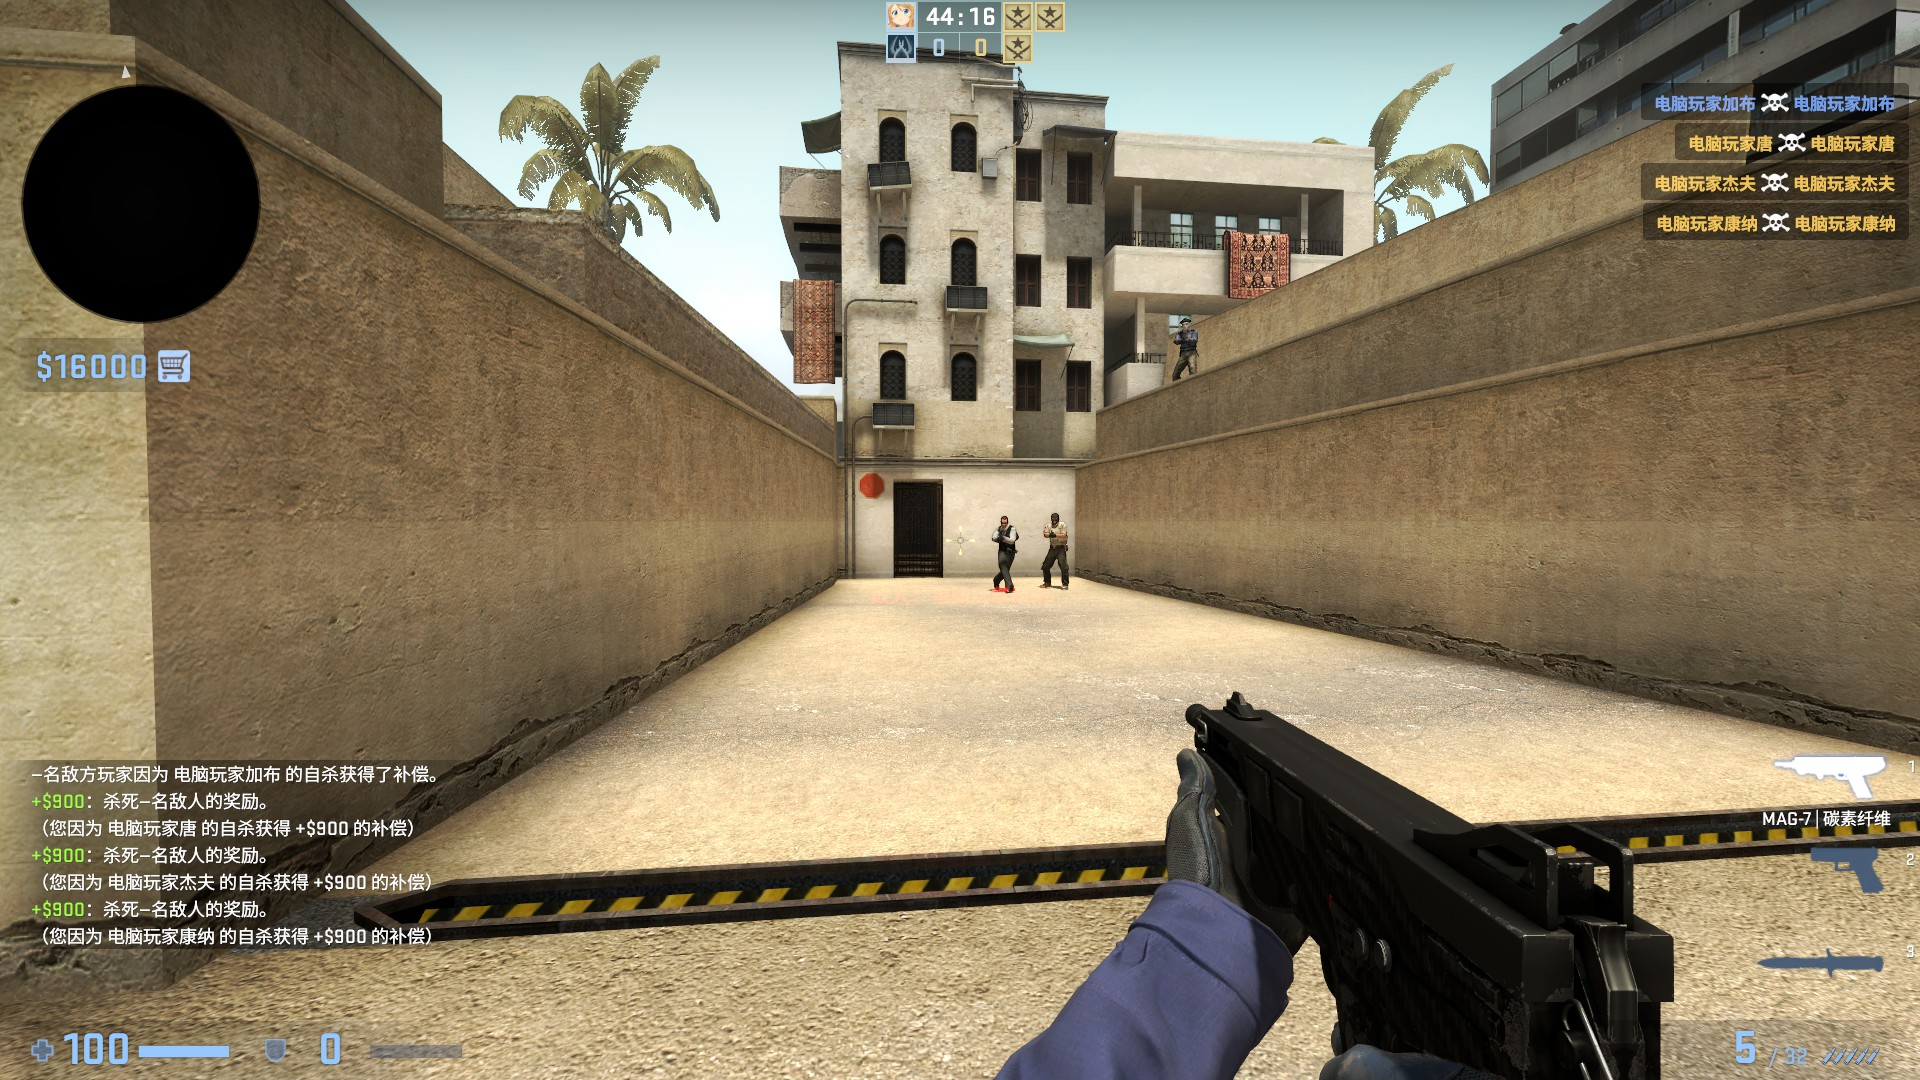head: (1178, 317, 1190, 333), (1048, 511, 1059, 526), (997, 514, 1008, 528)
